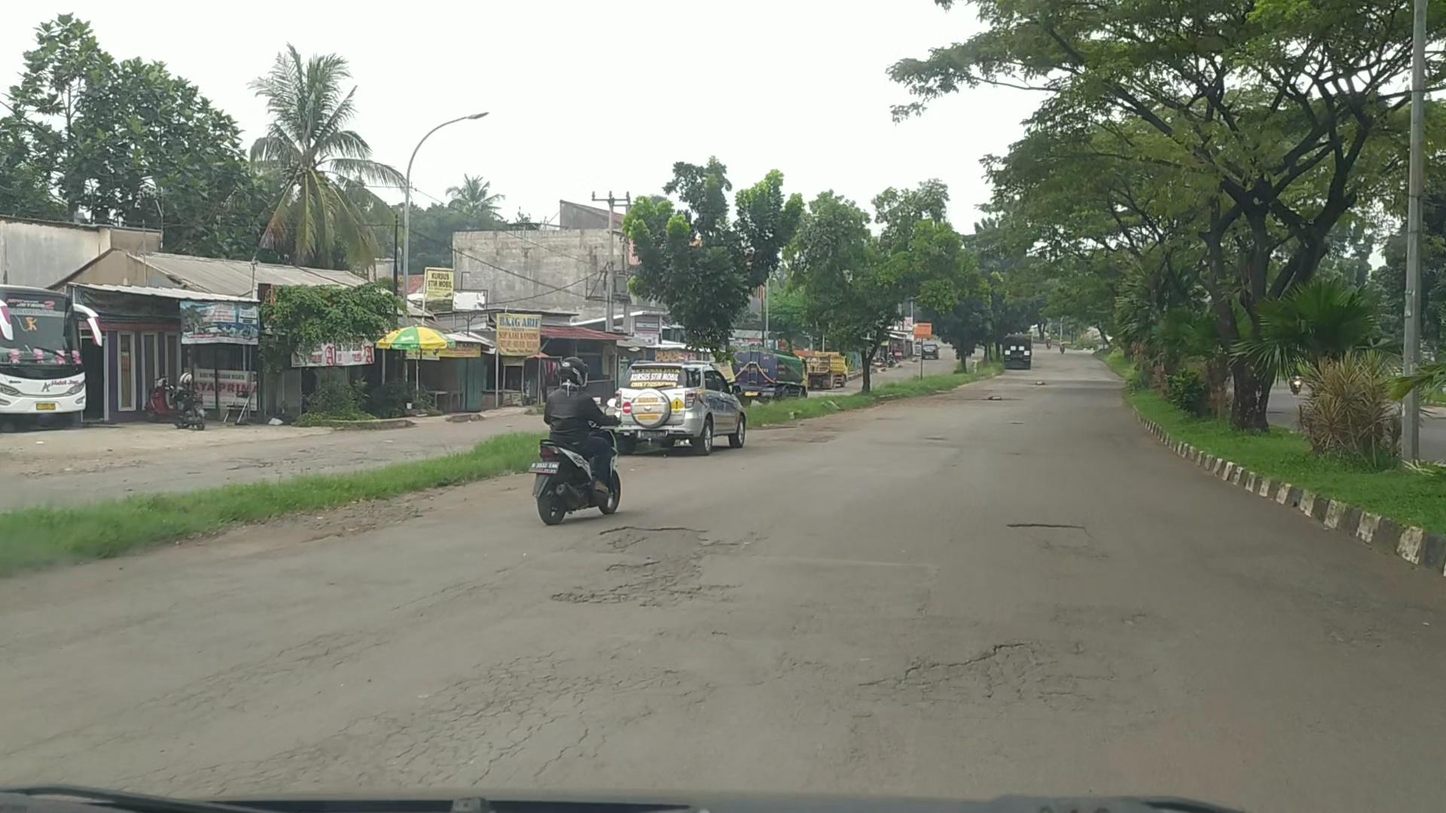pothole: (555, 523, 719, 609), (871, 636, 1041, 698), (1002, 521, 1092, 547)
